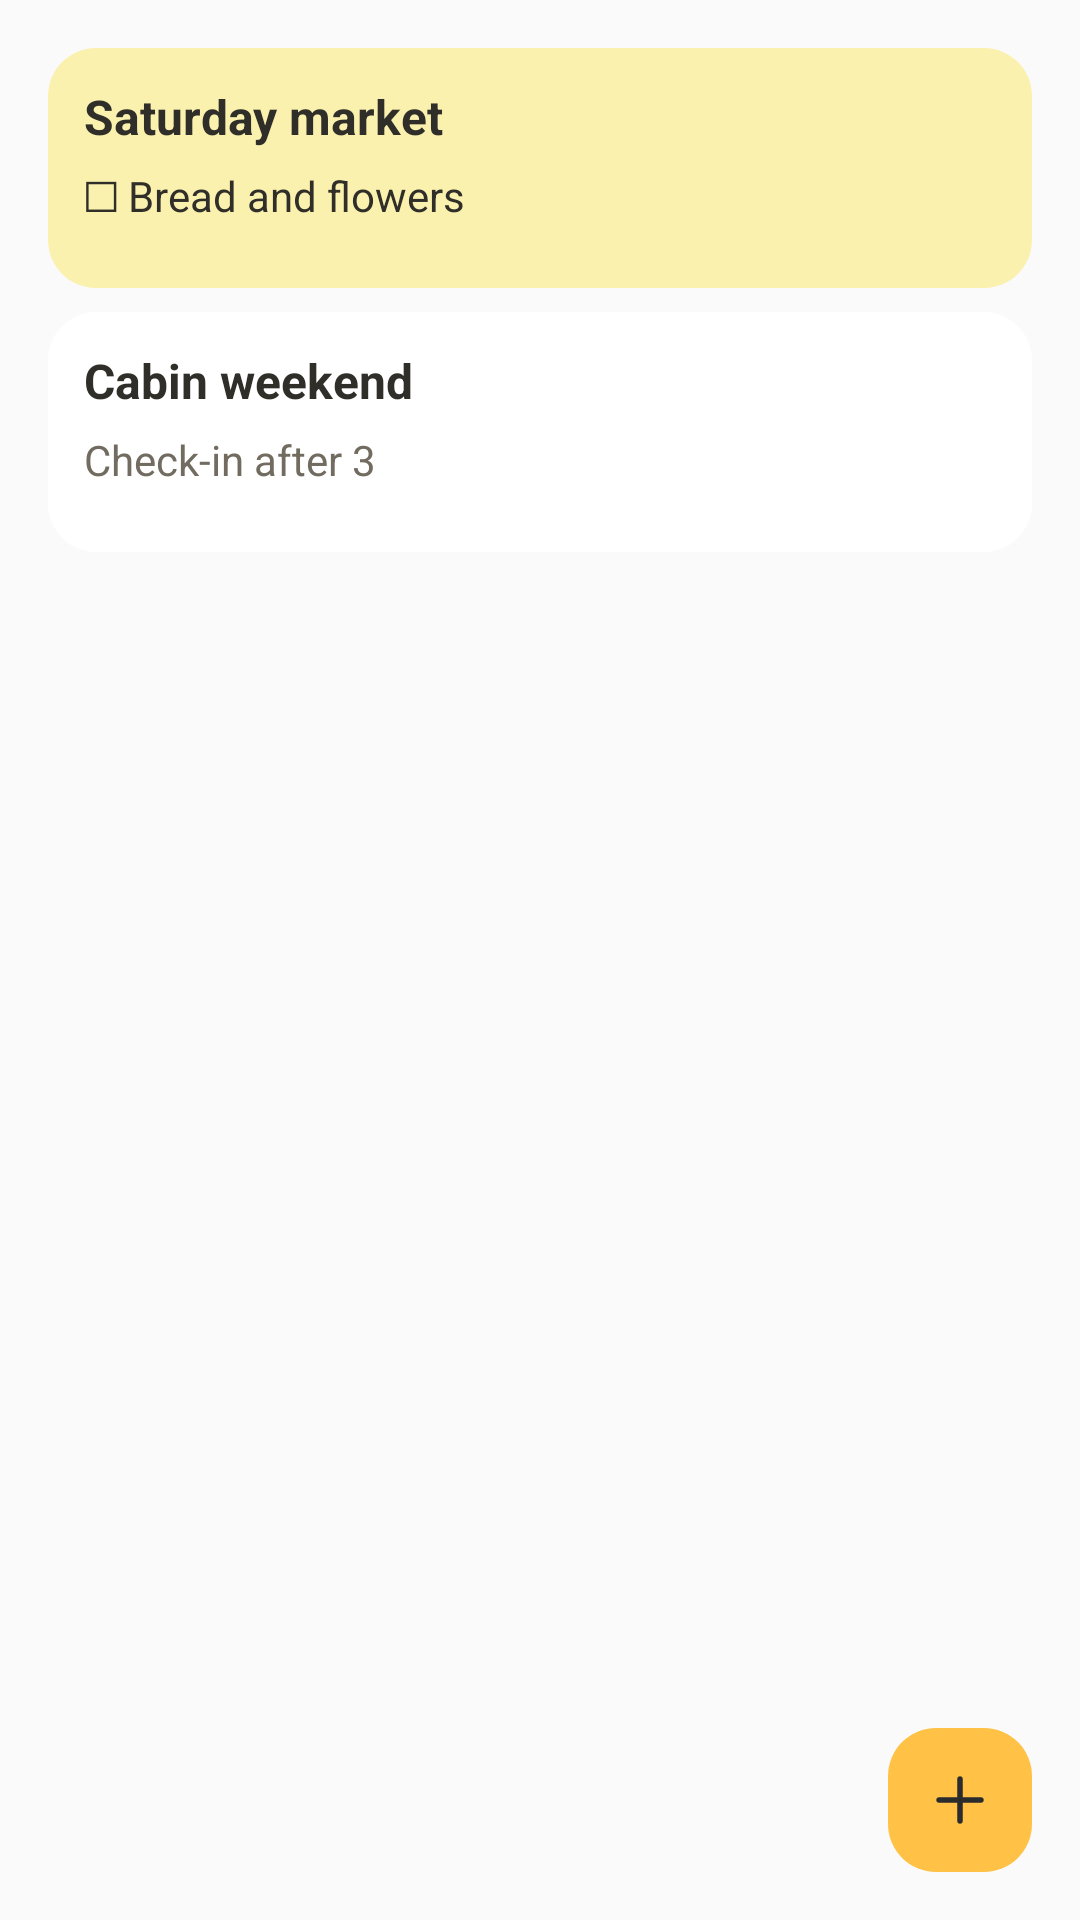

Screen size 1080px x 1920px. Icon name, then its box in pixels as (x1, y1, x2, y2):
New note: (888, 1728, 1032, 1872)
